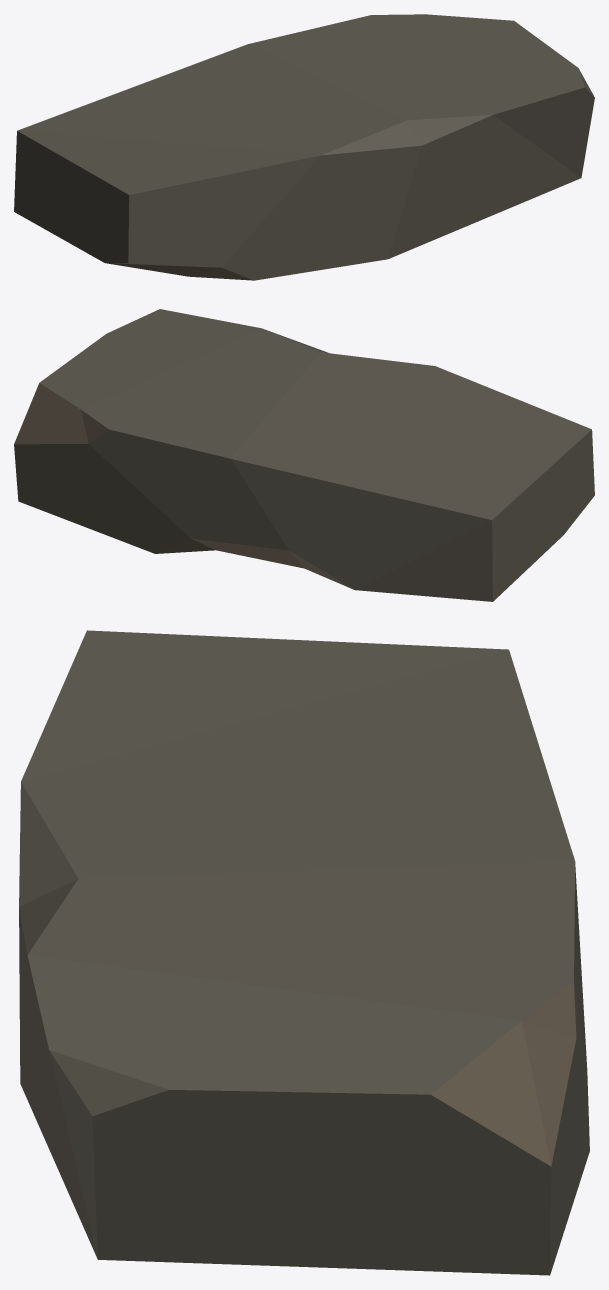
The model's file is synty-prop-brick-01.gltf.
3 renders of one model, top to bottom at view 1: azimuth 30°, elevation 25°; view 2: azimuth 150°, elevation 25°; view 3: azimuth 270°, elevation 25°, orthographic. The views are drawn at different scales.
Visible parts, largest first — view 1: SM_Prop_Brick_01; view 2: SM_Prop_Brick_01; view 3: SM_Prop_Brick_01.
Part boxes in pixels (x1=…): SM_Prop_Brick_01: x1=14, y1=14, x2=594, y2=280; SM_Prop_Brick_01: x1=14, y1=309, x2=594, y2=601; SM_Prop_Brick_01: x1=19, y1=630, x2=589, y2=1275.
Size of the model in its own units: 0.7696 by 0.1841 by 0.4012.
1 material, 1 textured.
